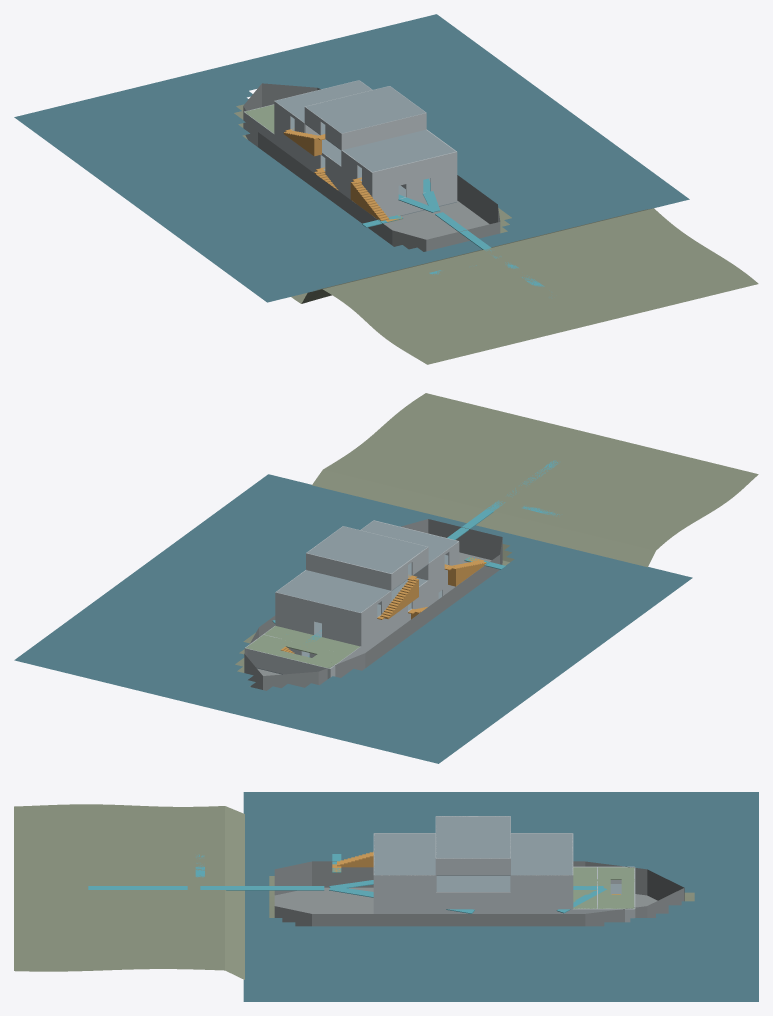
Rendered from rough-shell.glb.
3 views of the same model, one above another, from view 1: azimuth 30°, elevation 25°; view 2: azimuth 150°, elevation 25°; view 3: azimuth 270°, elevation 25° (orthographic).
Visible parts, largest first — view 1: WATER PLACEHOLDER / layers and transparency pending, Authored quay terrain, Pointed retired vessel hull / empty interior, Ceiling cap bridge, Ceiling cap crew, Wall crew S, Wall bridge S, Ceiling cap net, Wall engine S; view 2: WATER PLACEHOLDER / layers and transparency pending, Authored quay terrain, Pointed retired vessel hull / empty interior, Ceiling cap bridge, Ceiling cap net, Wall bridge N, Wall net N, Ceiling cap crew, Wall pump N, Wall processing N.001, Wall processing N, Floor fore.004; view 3: WATER PLACEHOLDER / layers and transparency pending, Authored quay terrain, Pointed retired vessel hull / empty interior, Ceiling cap bridge, Ceiling cap net, Ceiling cap crew, Wall processing E, Wall bridge E, Ceiling cap processing, Wall net E, Wall mess E, Wall crew E (+6 smaller).
Boxes of the visible parts, left/top/right/bottom form: WATER PLACEHOLDER / layers and transparency pending: left=14, top=14, right=689, bottom=302; Authored quay terrain: left=234, top=104, right=758, bottom=364; Pointed retired vessel hull / empty interior: left=243, top=83, right=500, bottom=251; Ceiling cap bridge: left=305, top=86, right=425, bottom=133; Ceiling cap crew: left=342, top=130, right=455, bottom=171; Wall crew S: left=372, top=151, right=456, bottom=188; Wall bridge S: left=341, top=113, right=426, bottom=149; Ceiling cap net: left=275, top=80, right=371, bottom=122; Wall engine S: left=374, top=185, right=456, bottom=217; WATER PLACEHOLDER / layers and transparency pending: left=14, top=474, right=692, bottom=763; Authored quay terrain: left=235, top=393, right=758, bottom=686; Pointed retired vessel hull / empty interior: left=244, top=519, right=502, bottom=690; Ceiling cap bridge: left=307, top=526, right=427, bottom=573; Ceiling cap net: left=276, top=570, right=390, bottom=612; Wall bridge N: left=306, top=553, right=391, bottom=590; Wall net N: left=275, top=592, right=360, bottom=629; Ceiling cap crew: left=361, top=520, right=457, bottom=562; Wall pump N: left=245, top=648, right=329, bottom=678; Wall processing N.001: left=275, top=609, right=314, bottom=634; Wall processing N: left=322, top=620, right=360, bottom=646; Floor fore.004: left=286, top=633, right=335, bottom=654; WATER PLACEHOLDER / layers and transparency pending: left=243, top=792, right=758, bottom=1001; Authored quay terrain: left=14, top=804, right=694, bottom=979; Pointed retired vessel hull / empty interior: left=274, top=861, right=684, bottom=926; Ceiling cap bridge: left=436, top=816, right=510, bottom=858; Ceiling cap net: left=511, top=833, right=572, bottom=875; Ceiling cap crew: left=374, top=833, right=435, bottom=875; Wall processing E: left=436, top=892, right=572, bottom=909; Wall bridge E: left=436, top=858, right=510, bottom=875; Ceiling cap processing: left=436, top=876, right=510, bottom=891; Wall net E: left=510, top=875, right=572, bottom=892; Wall mess E: left=374, top=892, right=435, bottom=909; Wall crew E: left=374, top=875, right=435, bottom=892.
Bounding box in the file's own units: 80 × 14.25 × 120.
